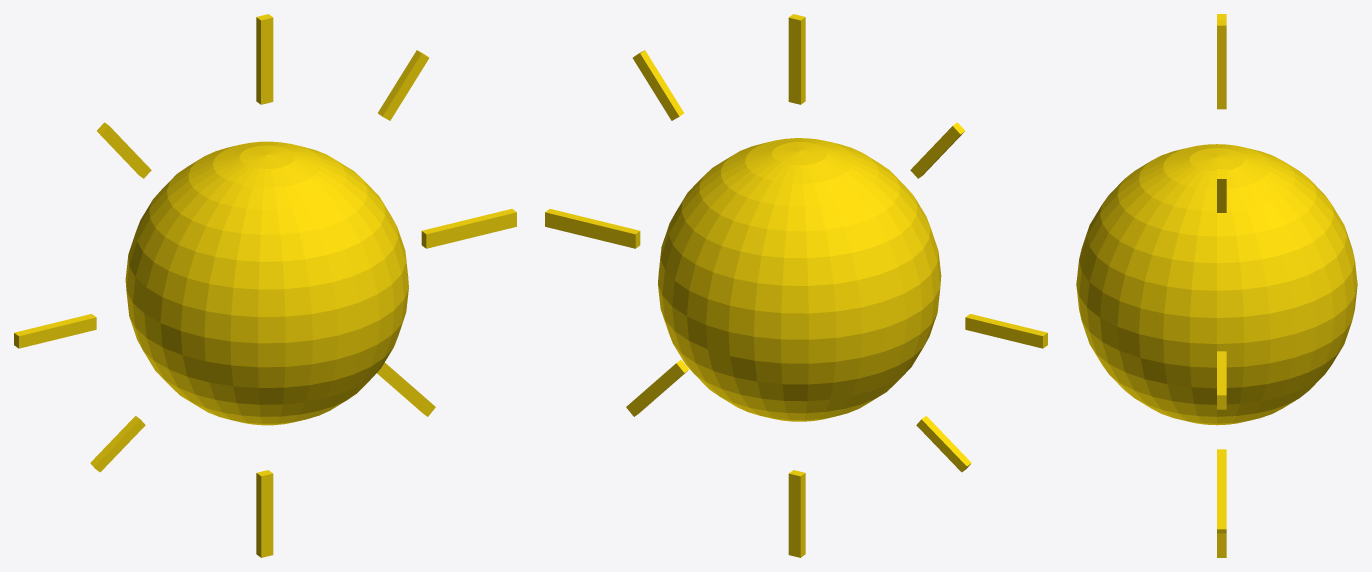
The model's file is sun.fbx.
3 views of the same model, side by side, from view 1: azimuth 30°, elevation 25°; view 2: azimuth 150°, elevation 25°; view 3: azimuth 270°, elevation 25° (orthographic).
Parts seen in each view (by area): view 1: Sphere, Plane.002, Plane.001, Plane, Plane.003, Plane.005, Plane.006, Plane.004, Plane.007; view 2: Sphere, Plane.002, Plane.001, Plane, Plane.003, Plane.005, Plane.004, Plane.006, Plane.007; view 3: Sphere, Plane.001, Plane.004, Plane.002, Plane.005.
Part boxes in pixels (x1,y1,x2,y2): Sphere: [125, 141, 408, 425]; Plane.002: [421, 209, 516, 248]; Plane.001: [256, 14, 273, 104]; Plane: [256, 470, 273, 557]; Plane.003: [14, 314, 96, 348]; Plane.005: [378, 50, 429, 120]; Plane.006: [90, 416, 145, 472]; Plane.004: [377, 362, 435, 416]; Plane.007: [97, 122, 151, 178]; Sphere: [658, 138, 941, 421]; Plane.002: [545, 209, 640, 248]; Plane.001: [788, 14, 805, 104]; Plane: [788, 470, 805, 557]; Plane.003: [965, 314, 1047, 348]; Plane.005: [632, 50, 683, 120]; Plane.004: [626, 360, 688, 416]; Plane.006: [916, 416, 971, 472]; Plane.007: [910, 122, 964, 178]; Sphere: [1076, 144, 1357, 425]; Plane.001: [1217, 19, 1226, 109]; Plane.004: [1217, 449, 1226, 533]; Plane.002: [1217, 351, 1226, 409]; Plane.005: [1217, 169, 1226, 212].
Bounding box in the file's own units: 405 × 418 × 200.
